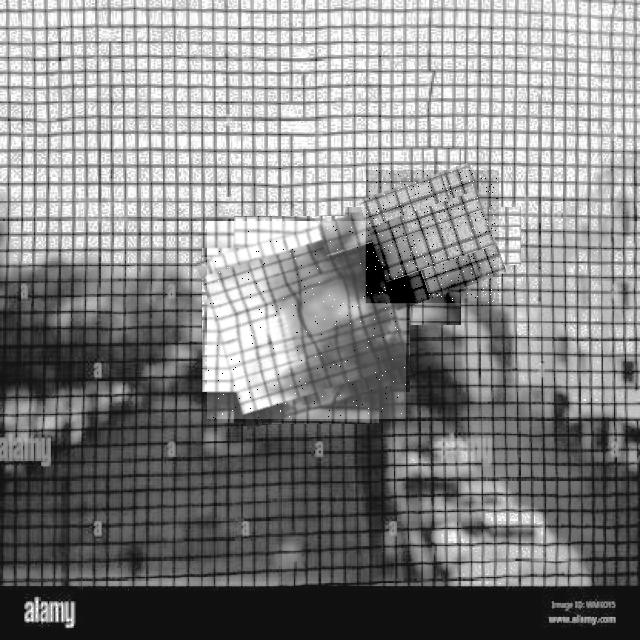anomaly-fence: (207, 221, 406, 419), (366, 170, 499, 303)
